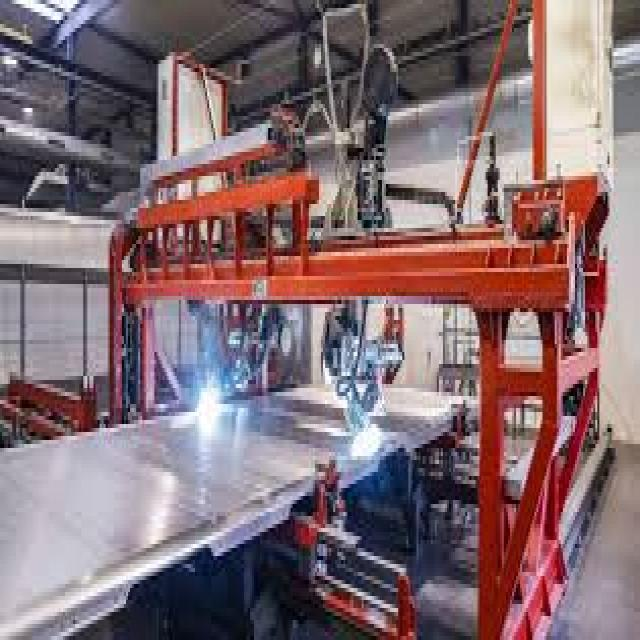welding: (350, 427, 386, 458), (197, 382, 217, 428)
